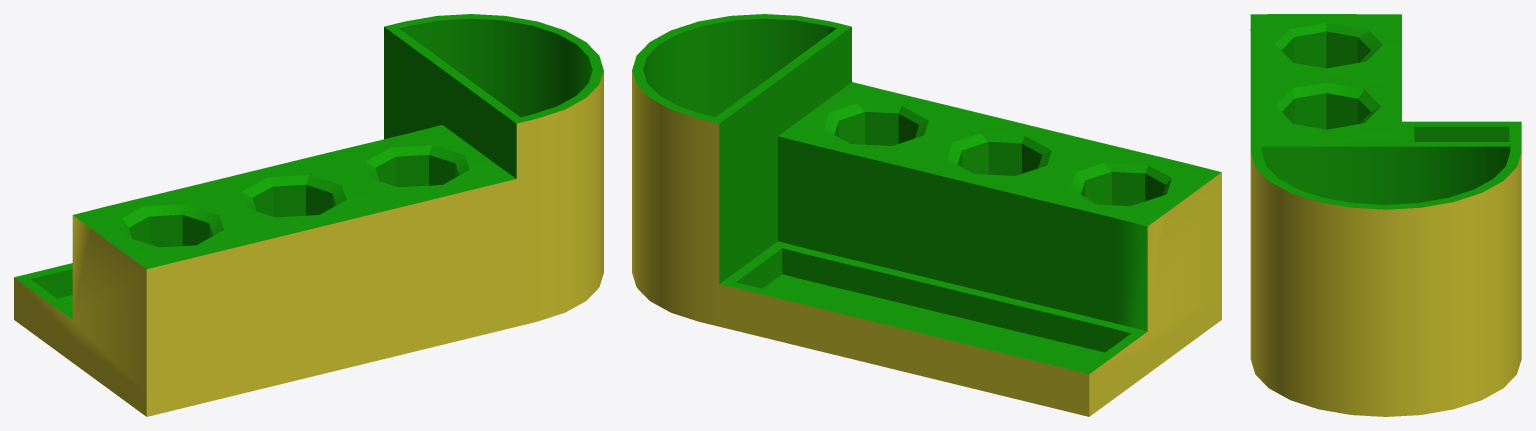
Rendered from chopstick_holder.fbx.
The picture shows the model from 3 angles, left to right: view 1: azimuth 30°, elevation 25°; view 2: azimuth 150°, elevation 25°; view 3: azimuth 270°, elevation 25°; orthographic projection. The views are drawn at different scales.
Parts seen in each view (by area): view 1: Chopstick Holder; view 2: Chopstick Holder; view 3: Chopstick Holder.
Boxes of the visible parts, bbox=[...] form: Chopstick Holder: bbox=[14, 14, 603, 416]; Chopstick Holder: bbox=[632, 14, 1221, 416]; Chopstick Holder: bbox=[1250, 14, 1521, 416].
Bounding box in the file's own units: 53.28 × 20.44 × 24.21.
